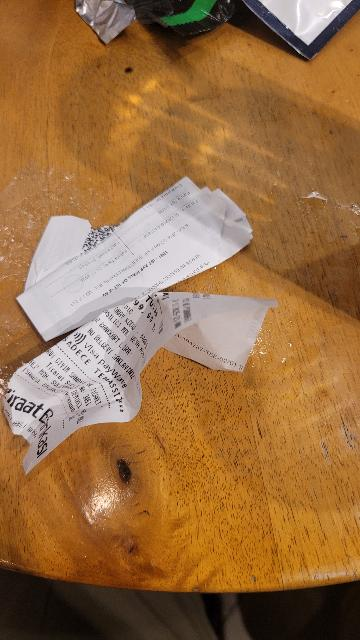Kagit: (0, 166, 278, 456)
